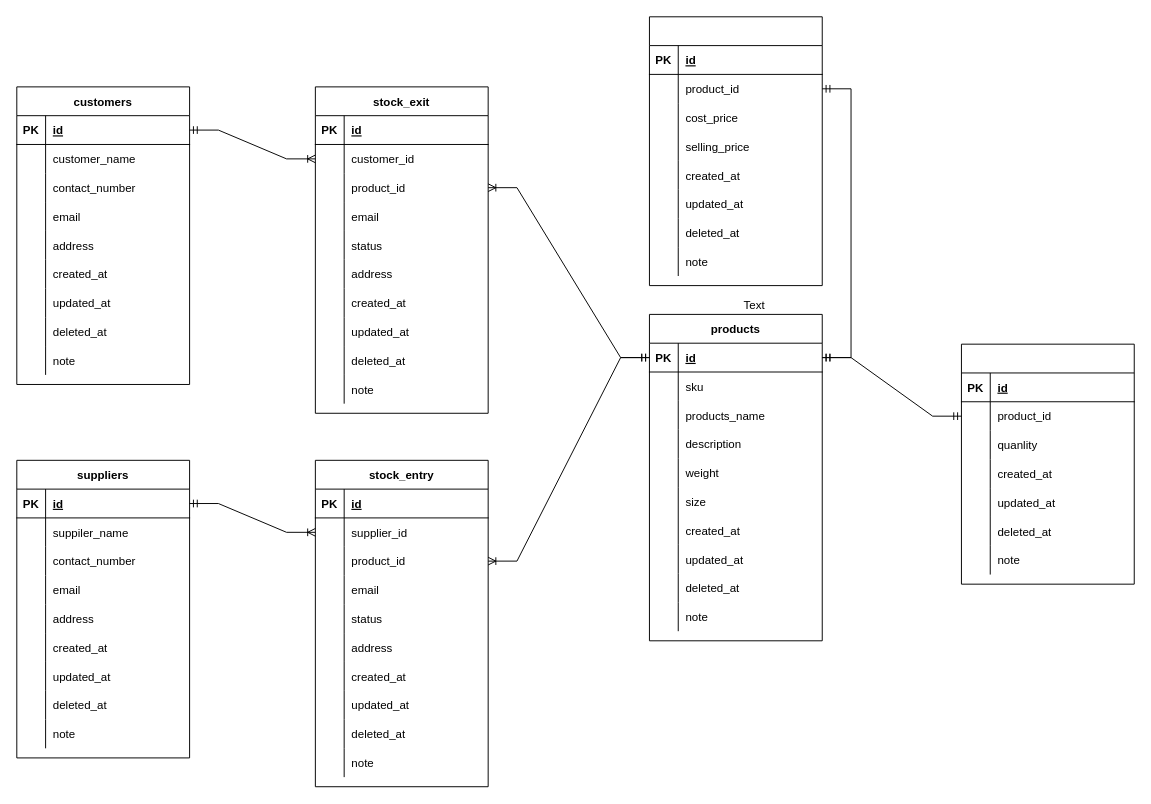
Some shapes in this 1151 by 804 pixel diagram are drawn without their labels. Each missing label, with the box of its shape:
inventory: (960, 343, 1134, 584)
product_pricing: (648, 16, 822, 286)
